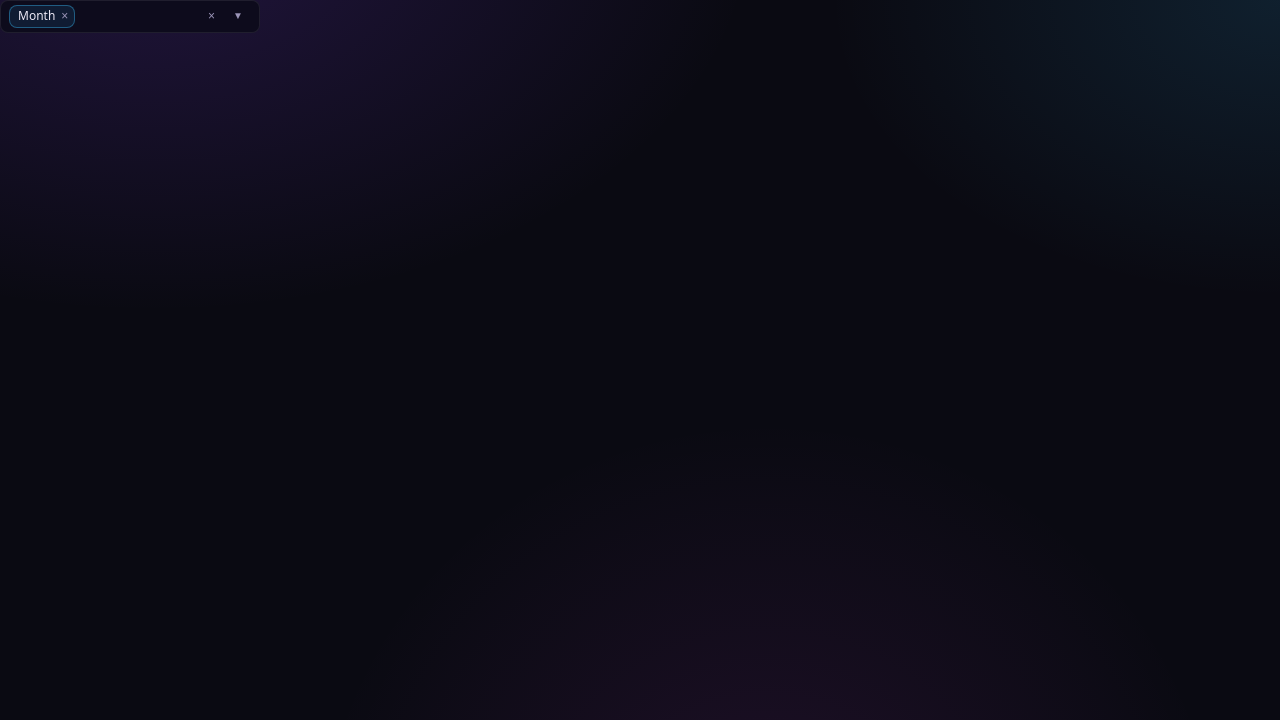
Test case: MultiSelectChips — formatOption › renders capitalised labels in the popover option list when formatOption is supplied
The image size is (1280, 720).
// Open the popover
Click the dropdown named "Scales" at coordinates (130, 16), box top-left (0, 0), bottom-right (260, 33)
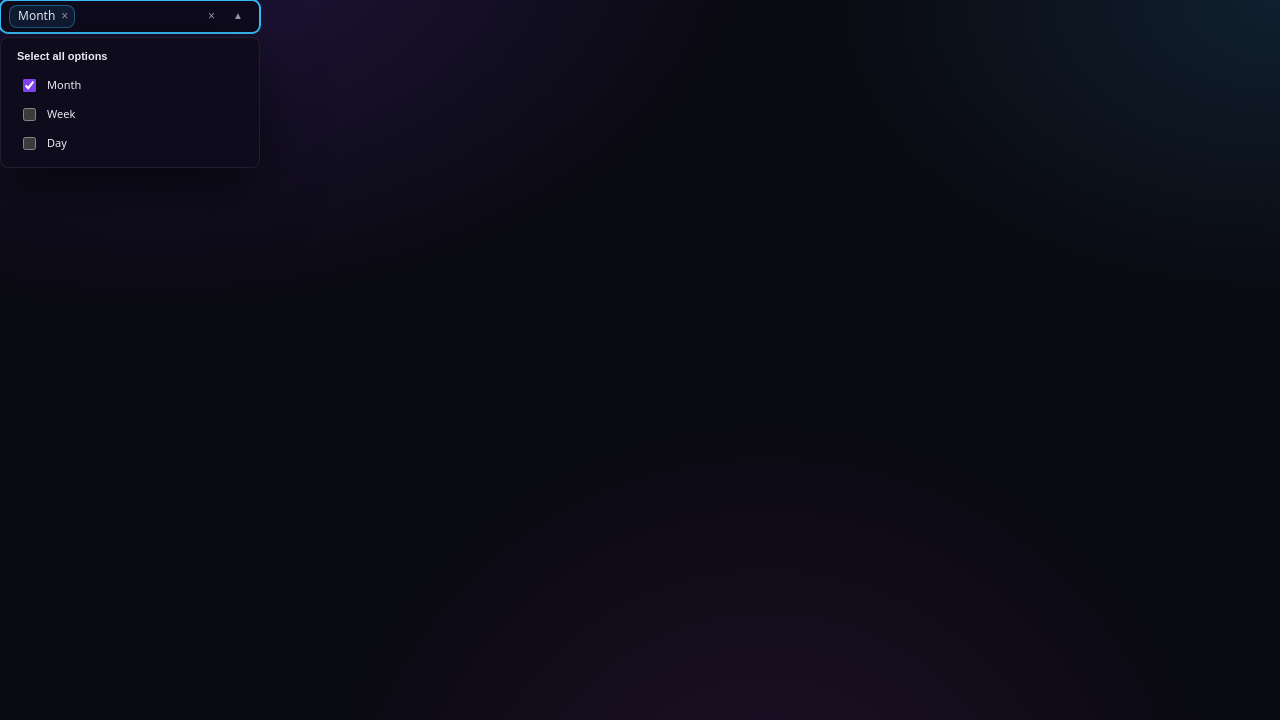
Result: the text "Day" is shown at top-left (47, 136), bottom-right (67, 150)
